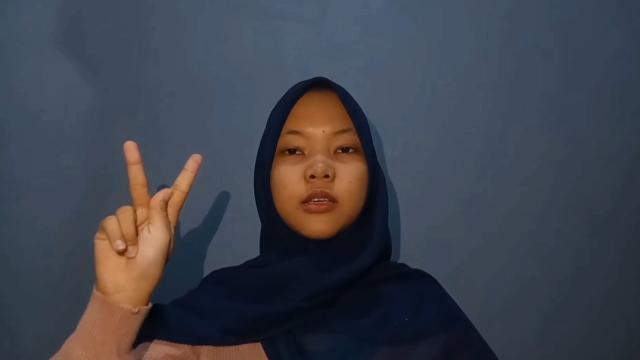K: (92, 138, 206, 305)
